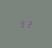nine: (19, 19, 24, 27)
two: (25, 19, 30, 28)
